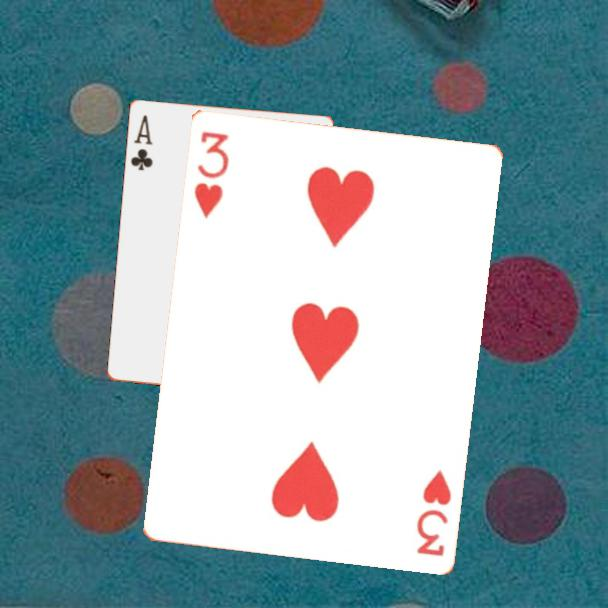c01: (127, 111, 155, 173)
h03: (412, 465, 454, 559), (190, 127, 231, 221)
